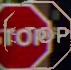Stop: (7, 5, 70, 65)
